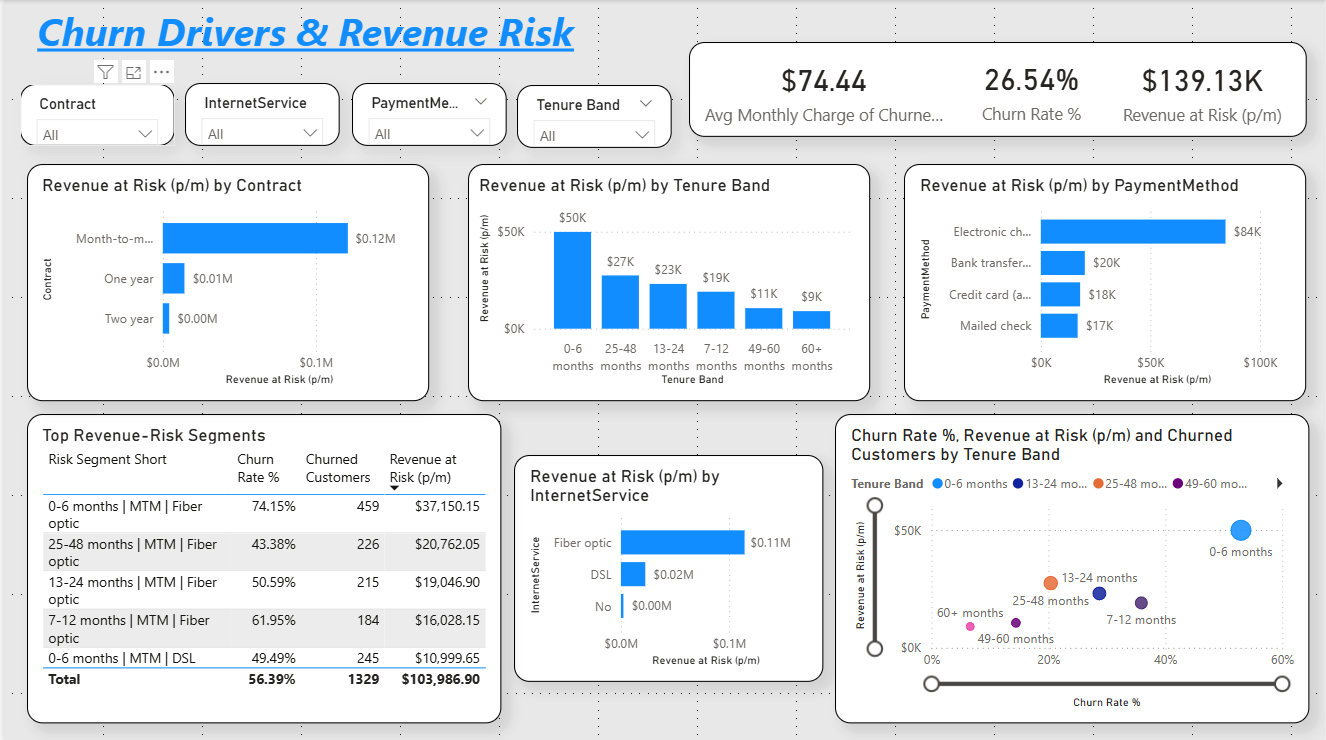

Layout of this report page (visuals, bound fields, positions):
{"tool":"powerbi","page":{"name":"Churn Drivers & Revenue Risk","canvas":[1280,720],"ordinal":2},"visuals":[{"type":"shape","box":[664,41,599,92],"z":0},{"type":"shape","box":[495,441,300,220],"z":1000},{"type":"shape","box":[22,401,460,300],"z":2000},{"type":"shape","box":[806,401,460,300],"z":3000},{"type":"shape","box":[22,159,390,230],"z":4000},{"type":"shape","box":[450,159,390,230],"z":5000},{"type":"shape","box":[873,159,390,230],"z":6000},{"type":"clusteredBarChart","fields":{"Category":["Telco.Contract"],"Y":["Telco.Revenue at Risk"]},"box":[32,169,370,210],"z":7000},{"type":"clusteredColumnChart","fields":{"Y":["Telco.Revenue at Risk"],"Category":["Telco.Tenure Band"]},"box":[456,169,370,210],"z":8000},{"type":"clusteredBarChart","fields":{"Category":["Telco.InternetService"],"Y":["Telco.Revenue at Risk"]},"box":[505,451,280,200],"z":9000},{"type":"scatterChart","fields":{"Y":["Telco.Revenue at Risk"],"X":["Telco.Churn Rate %"],"Series":["Telco.Tenure Band"],"Size":["Telco.Churned Customers"]},"box":[816,411,440,280],"z":10000},{"type":"clusteredBarChart","fields":{"Y":["Telco.Revenue at Risk"],"Category":["Telco.PaymentMethod"]},"box":[883,169,370,210],"z":11000},{"type":"tableEx","title":"Top Revenue-Risk Segments","fields":{"Values":["Telco.Risk Segment Short","Telco.Churn Rate %","Telco.Churned Customers","Telco.Revenue at Risk"]},"box":[32.2,411.1,440,280],"z":12000},{"type":"slicer","fields":{"Values":["Telco.Contract"]},"box":[15.8,81.6,150,60],"z":13000},{"type":"slicer","fields":{"Values":["Telco.InternetService"]},"box":[175.1,80.3,150,60.6],"z":14000},{"type":"slicer","fields":{"Values":["Telco.PaymentMethod"]},"box":[337.4,80.3,150,60.6],"z":15000},{"type":"slicer","fields":{"Values":["Telco.Tenure Band"]},"box":[497.4,82.6,150,60.6],"z":16000},{"type":"textbox","box":[0,0,585,69],"z":17000},{"type":"card","fields":{"Values":["Telco.Avg Monthly Charge of Churned Customers"]},"box":[670,46,250,82],"z":18000},{"type":"card","fields":{"Values":["Telco.Churn Rate %"]},"box":[920,45,152,82],"z":19000},{"type":"card","fields":{"Values":["Telco.Revenue at Risk"]},"box":[1072,46,179,82],"z":20000}]}

Visuals, with their boxes in screenshot pixels (x1, y1, x2, y2), scaled from the page's 1280x720 canvas onto the 1326x740 screenshot:
shape: (688,42,1308,137)
shape: (513,453,824,679)
shape: (23,412,499,720)
shape: (835,412,1311,720)
shape: (23,163,427,400)
shape: (466,163,870,400)
shape: (904,163,1308,400)
clusteredBarChart - Telco.Contract x Telco.Revenue at Risk: (33,174,416,390)
clusteredColumnChart - Telco.Revenue at Risk x Telco.Tenure Band: (472,174,856,390)
clusteredBarChart - Telco.InternetService x Telco.Revenue at Risk: (523,464,813,669)
scatterChart - Telco.Revenue at Risk x Telco.Churn Rate %: (845,422,1301,710)
clusteredBarChart - Telco.Revenue at Risk x Telco.PaymentMethod: (915,174,1298,390)
"Top Revenue-Risk Segments" tableEx: (33,423,489,710)
slicer - Telco.Contract: (16,84,172,146)
slicer - Telco.InternetService: (181,83,337,145)
slicer - Telco.PaymentMethod: (350,83,505,145)
slicer - Telco.Tenure Band: (515,85,671,147)
textbox: (0,0,606,71)
card - Telco.Avg Monthly Charge of Churned Customers: (694,47,953,132)
card - Telco.Churn Rate %: (953,46,1111,131)
card - Telco.Revenue at Risk: (1111,47,1296,132)
